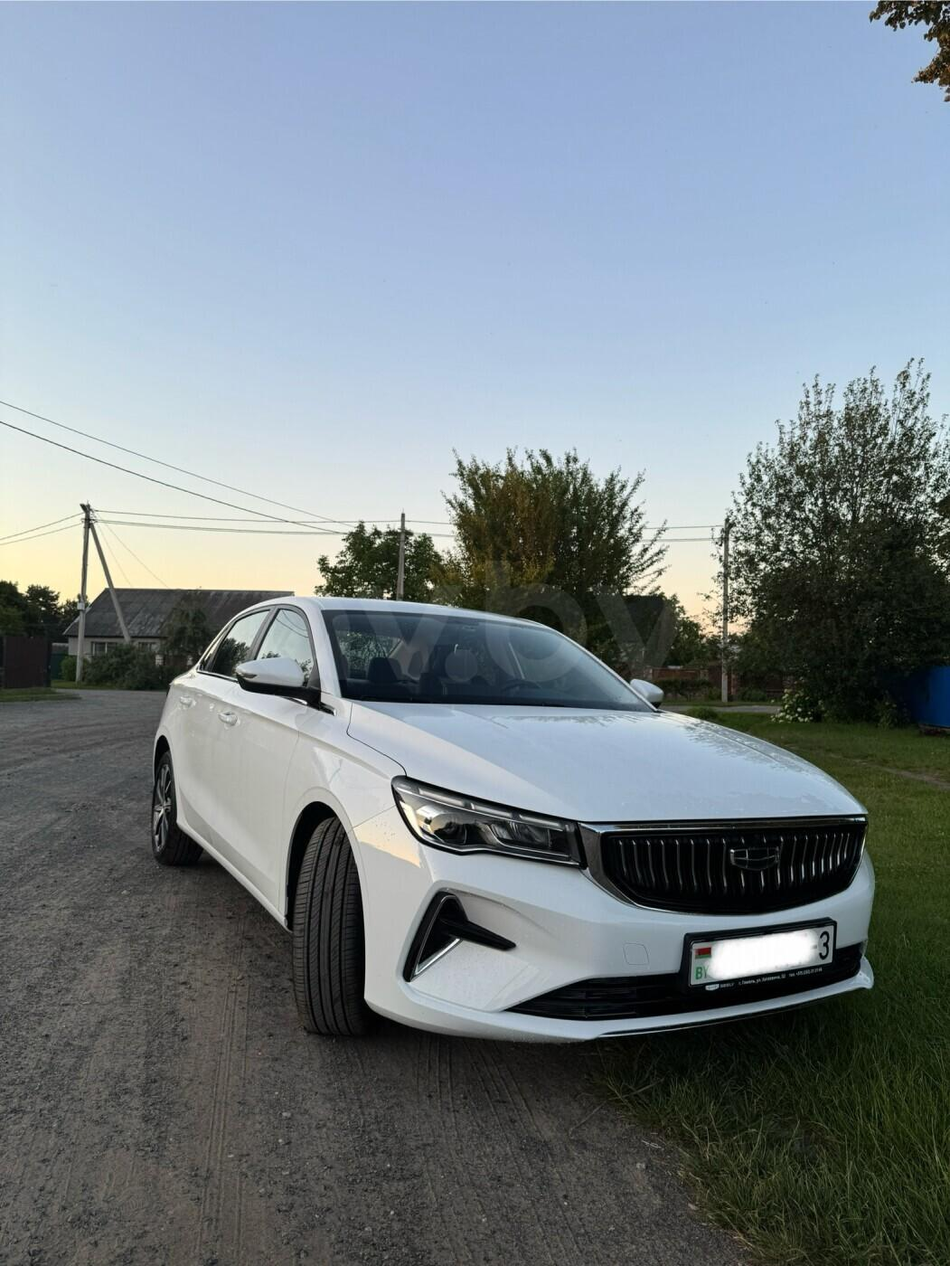Emgrand_2021: (148, 584, 895, 1087)
